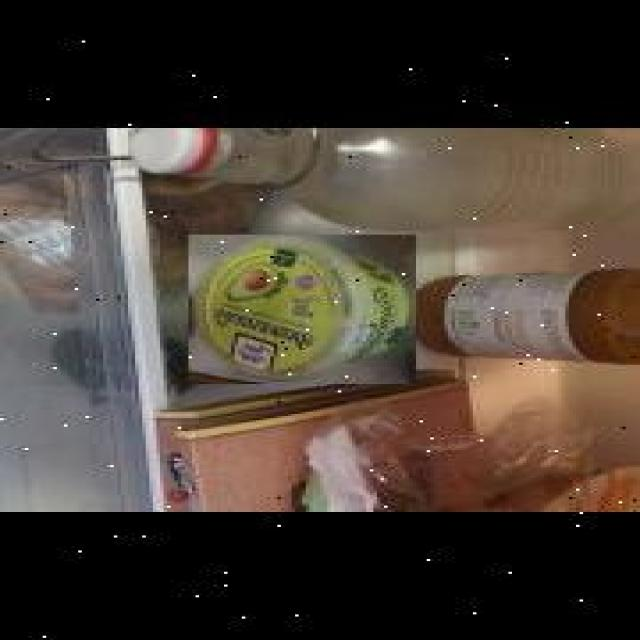guacamole: (185, 235, 412, 384)
